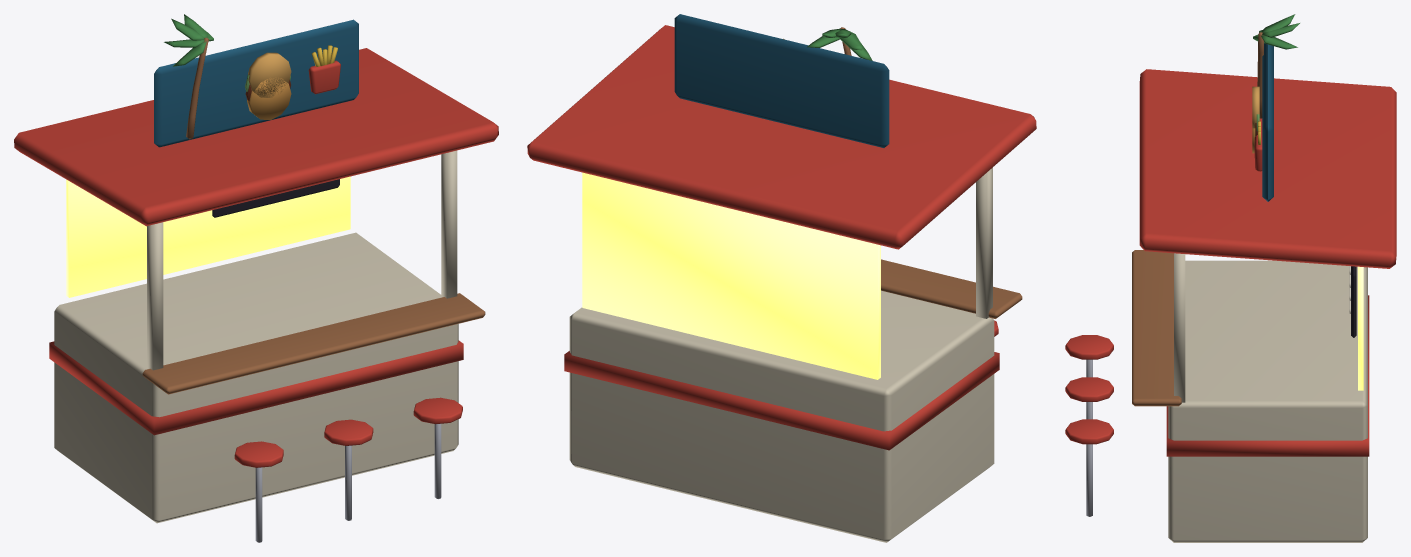
Rendered from burger_stand.glb.
3 views of the same model, side by side, from view 1: azimuth 30°, elevation 25°; view 2: azimuth 150°, elevation 25°; view 3: azimuth 270°, elevation 25° (orthographic). The views are drawn at different scales.
Parts seen in each view (by area): view 1: burger_stand; view 2: burger_stand; view 3: burger_stand.
Boxes of the visible parts, x1,y1,x2,y2 form: burger_stand: (14,14,498,542); burger_stand: (527,14,1036,542); burger_stand: (1065,14,1396,542).
Bounding box in the file's own units: 2.8 × 3.3 × 2.32.
